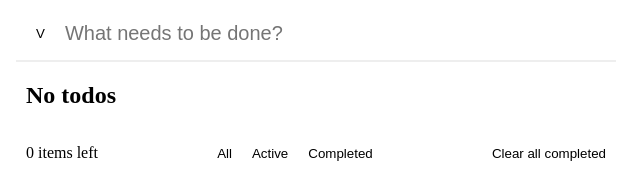
Test: Todos Component › Should add todo when click addTodo button
The width and height of the screenshot is (633, 178).
Type "New todo" into the field with placeholder "What needs to be done?" at (330,34), box [55,17,606,50]
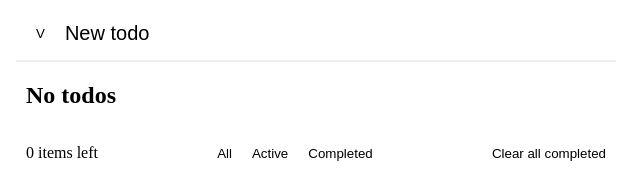
Click the button "V" at (40,34), box [26,17,55,50]
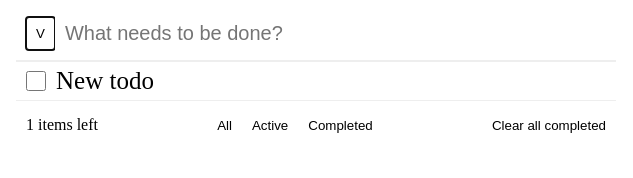
Expected: the text "New todo" is shown, [56,67,154,95]
